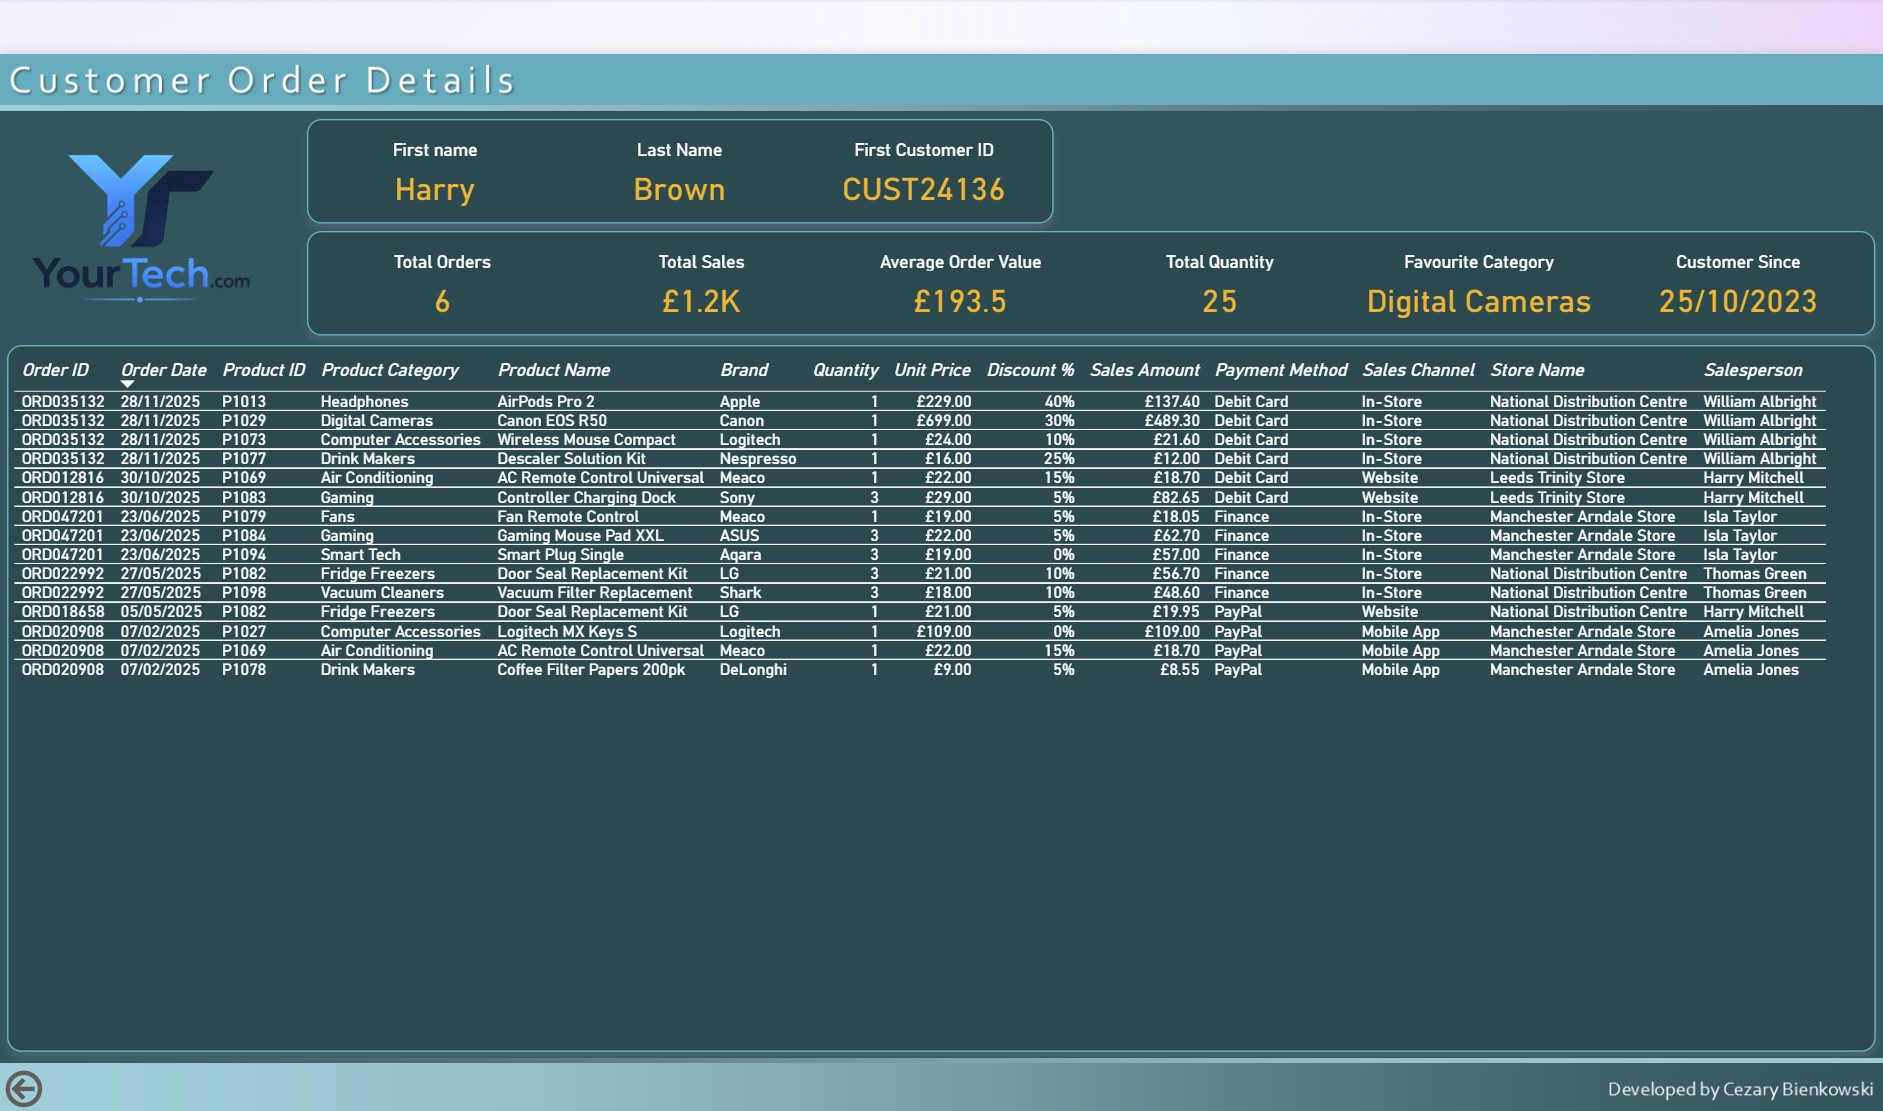

What the dashboard file says about the page in this screenshot:
{"tool":"powerbi","page":{"name":"dt Customer Orders","canvas":[1280,720],"ordinal":5},"visuals":[{"type":"actionButton","box":[0,685.7,100.2,33.8],"z":0},{"type":"tableEx","fields":{"Values":["fSales.Order ID","fSales.Order Date","fSales.Product ID","dProducts.Product Category","dProducts.Product Name","dProducts.Brand","fSales.Quantity","fSales.Unit Price","fSales.Discount %","fSales.Sales Amount","fSales.Payment Method","fSales.Sales Channel"]},"box":[5.4,197.7,1269.2,479.9],"z":1000},{"type":"cardVisual","fields":{"Data":["_Measures.Total Orders","_Measures.Total Sales","_Measures.Average Order Value","_Measures.Total Quantity","_Measures.Favourite Category"]},"box":[209.2,120.5,1065.4,71.1],"z":2000},{"type":"cardVisual","fields":{"Data":["Min(dCustomers.First name)","Min(dCustomers.Last Name)","Min(dCustomers.Customer ID)"]},"box":[209.2,44,507,71.1],"z":3000}]}

Visuals, with their boxes on the page's 1280x720 design canvas (x1, y1, x2, y2). These are canvas units, not pixel positions in the 1883x1111 screenshot, which may show the page scaled, cropped or inside an application window:
actionButton: BBox(0, 686, 100, 720)
tableEx - fSales.Order ID x fSales.Order Date: BBox(5, 198, 1275, 678)
cardVisual - _Measures.Total Orders x _Measures.Total Sales: BBox(209, 120, 1275, 192)
cardVisual - Min(dCustomers.First name) x Min(dCustomers.Last Name): BBox(209, 44, 716, 115)
